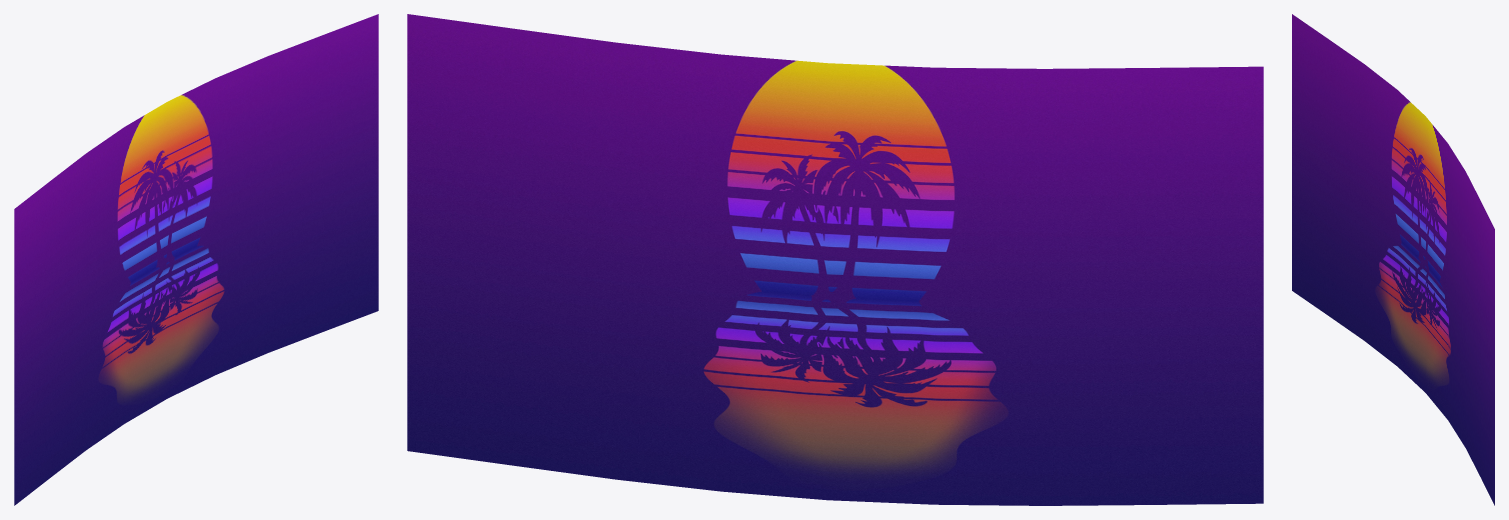
The model's file is monitor.001_material.004_0_lev1.glb.
3 renders of one model, left to right at view 1: azimuth 30°, elevation 25°; view 2: azimuth 150°, elevation 25°; view 3: azimuth 270°, elevation 25°, orthographic. The views are drawn at different scales.
Visible parts, largest first — view 1: monitor.001_material.004_0_lev1; view 2: monitor.001_material.004_0_lev1; view 3: monitor.001_material.004_0_lev1.
Boxes of the visible parts, x1,y1,x2,y2 form: monitor.001_material.004_0_lev1: (14, 14, 378, 505); monitor.001_material.004_0_lev1: (407, 14, 1263, 505); monitor.001_material.004_0_lev1: (1292, 14, 1494, 505).
Bounding box in the file's own units: 37.34 × 22.41 × 14.87.
Materials: 1 (1 with a texture image).
